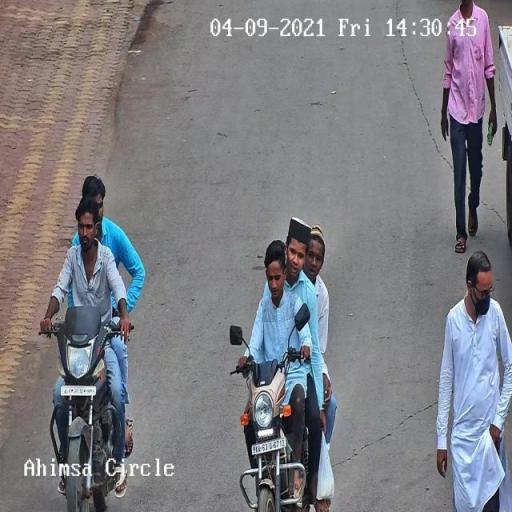tripple riding: (225, 214, 345, 442)
